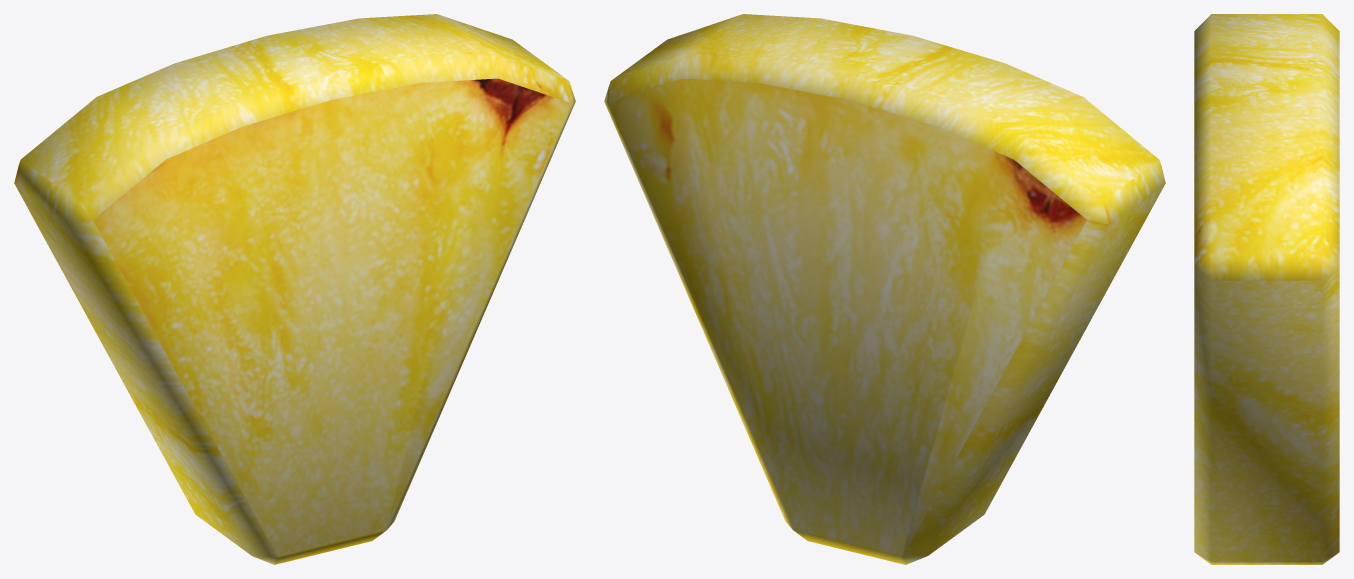
Rendered from Pinaple Chunk.fbx.
3 renders of one model, left to right at view 1: azimuth 30°, elevation 25°; view 2: azimuth 150°, elevation 25°; view 3: azimuth 270°, elevation 25°, orthographic. The views are drawn at different scales.
Parts seen in each view (by area): view 1: Cube; view 2: Cube; view 3: Cube.
Part boxes in pixels (<box>): Cube: <box>14,14,575,564</box>; Cube: <box>604,14,1165,564</box>; Cube: <box>1194,14,1339,564</box>.
Bounding box in the file's own units: 785 × 707 × 200.
